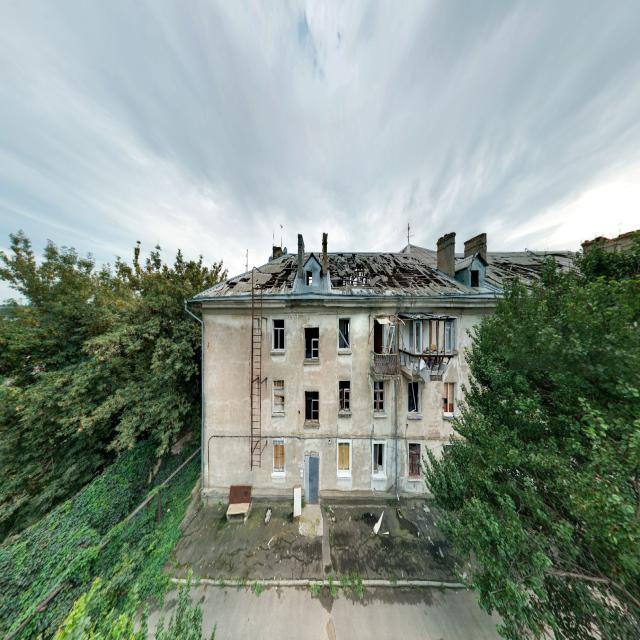broken_window: (304, 325, 319, 362), (304, 390, 319, 426), (336, 440, 351, 476), (372, 441, 386, 478), (272, 379, 285, 417), (338, 379, 351, 415), (338, 316, 350, 352), (408, 442, 420, 478), (272, 318, 284, 353), (373, 379, 385, 414), (273, 440, 284, 472)
building: (183, 225, 584, 508)
